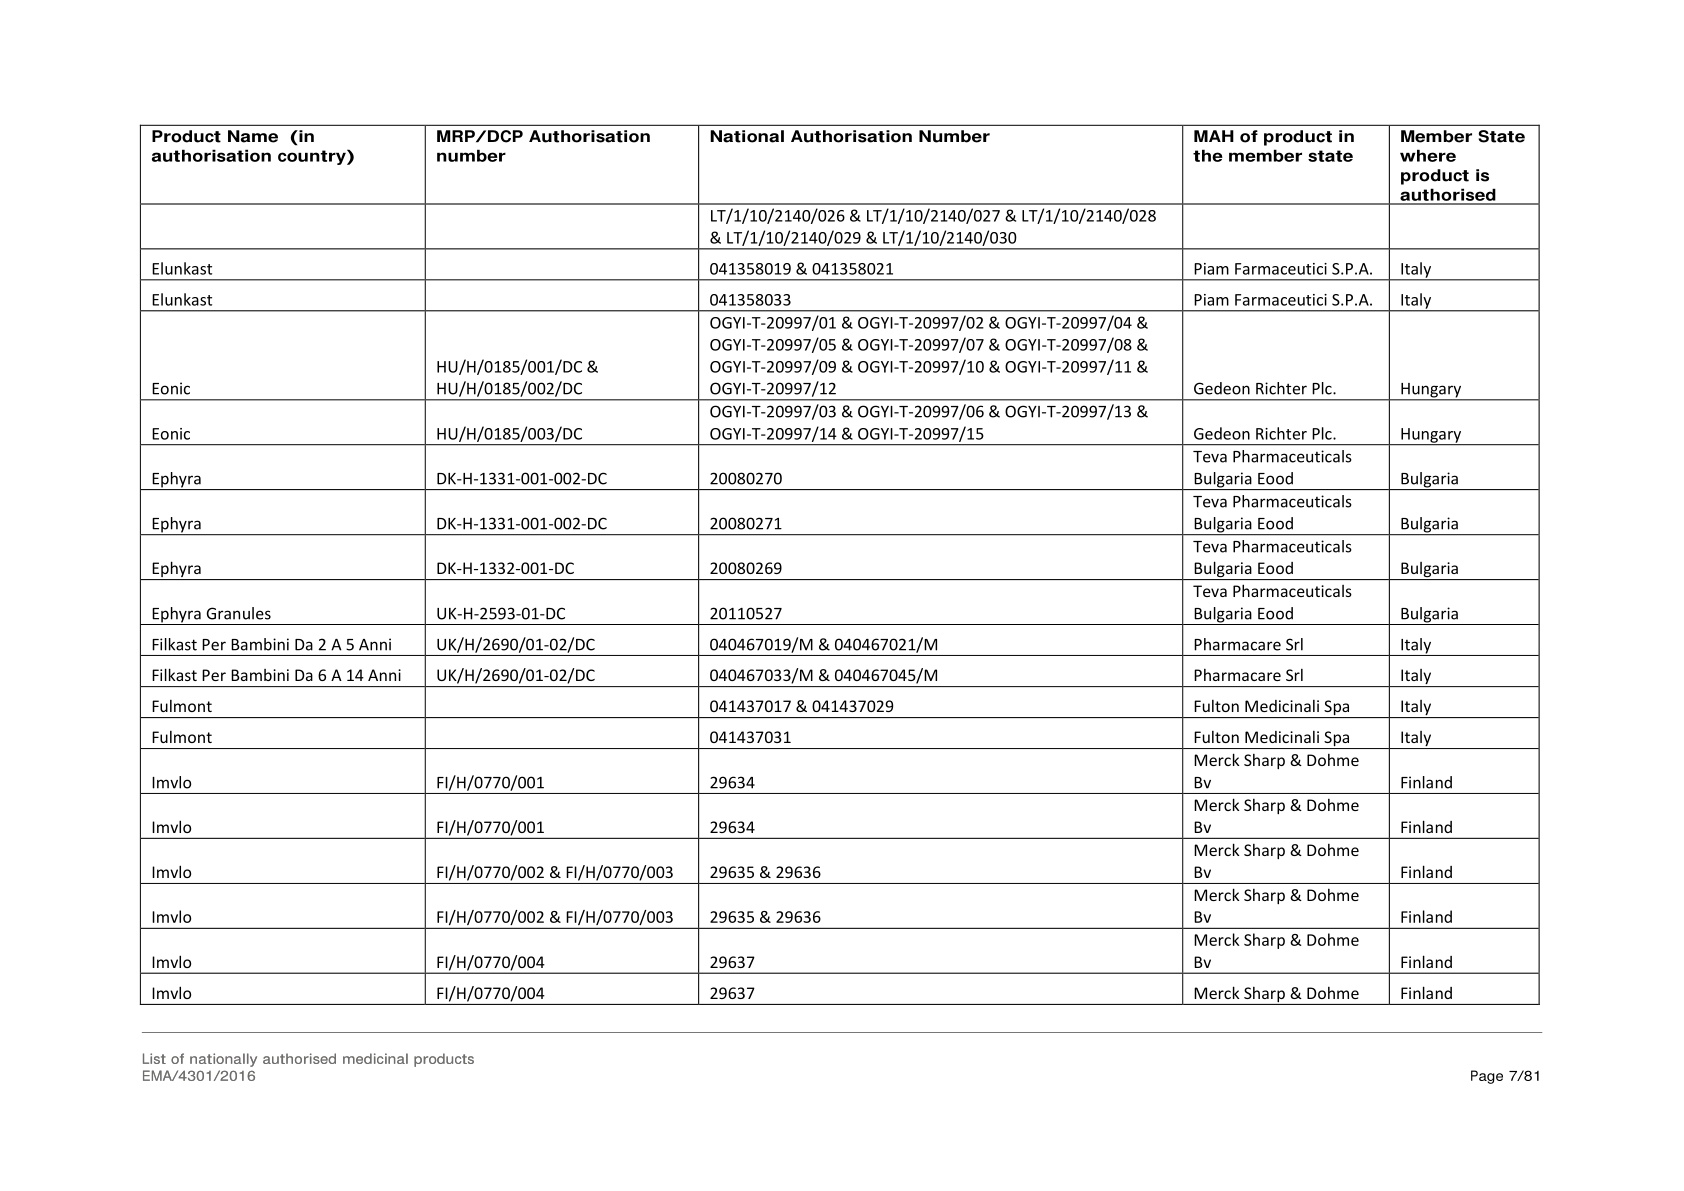full_lined: (138, 122, 1541, 1005)
